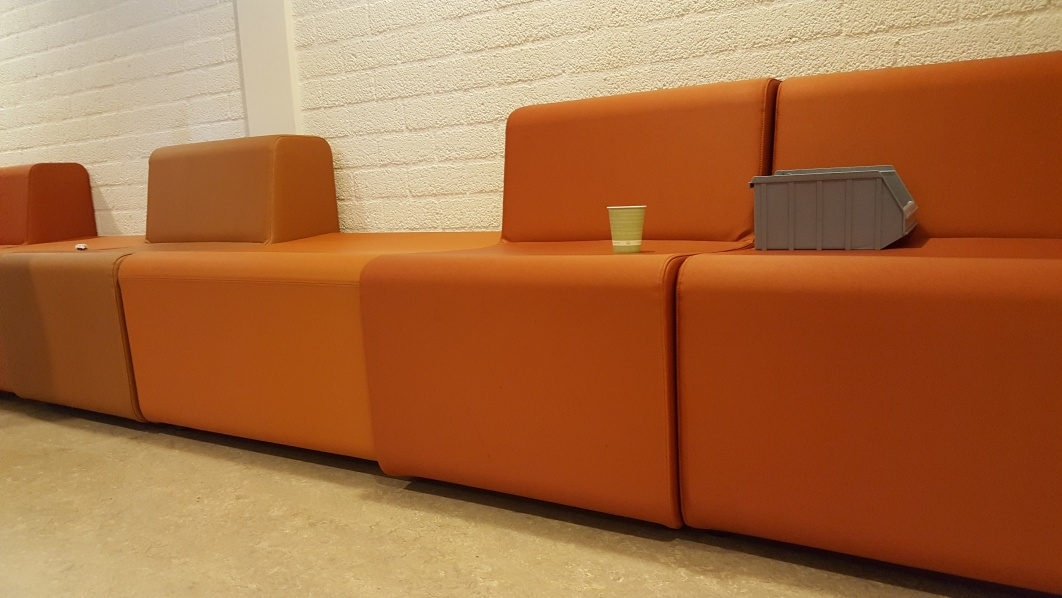cup: (604, 204, 649, 252)
tray: (743, 163, 917, 255)
